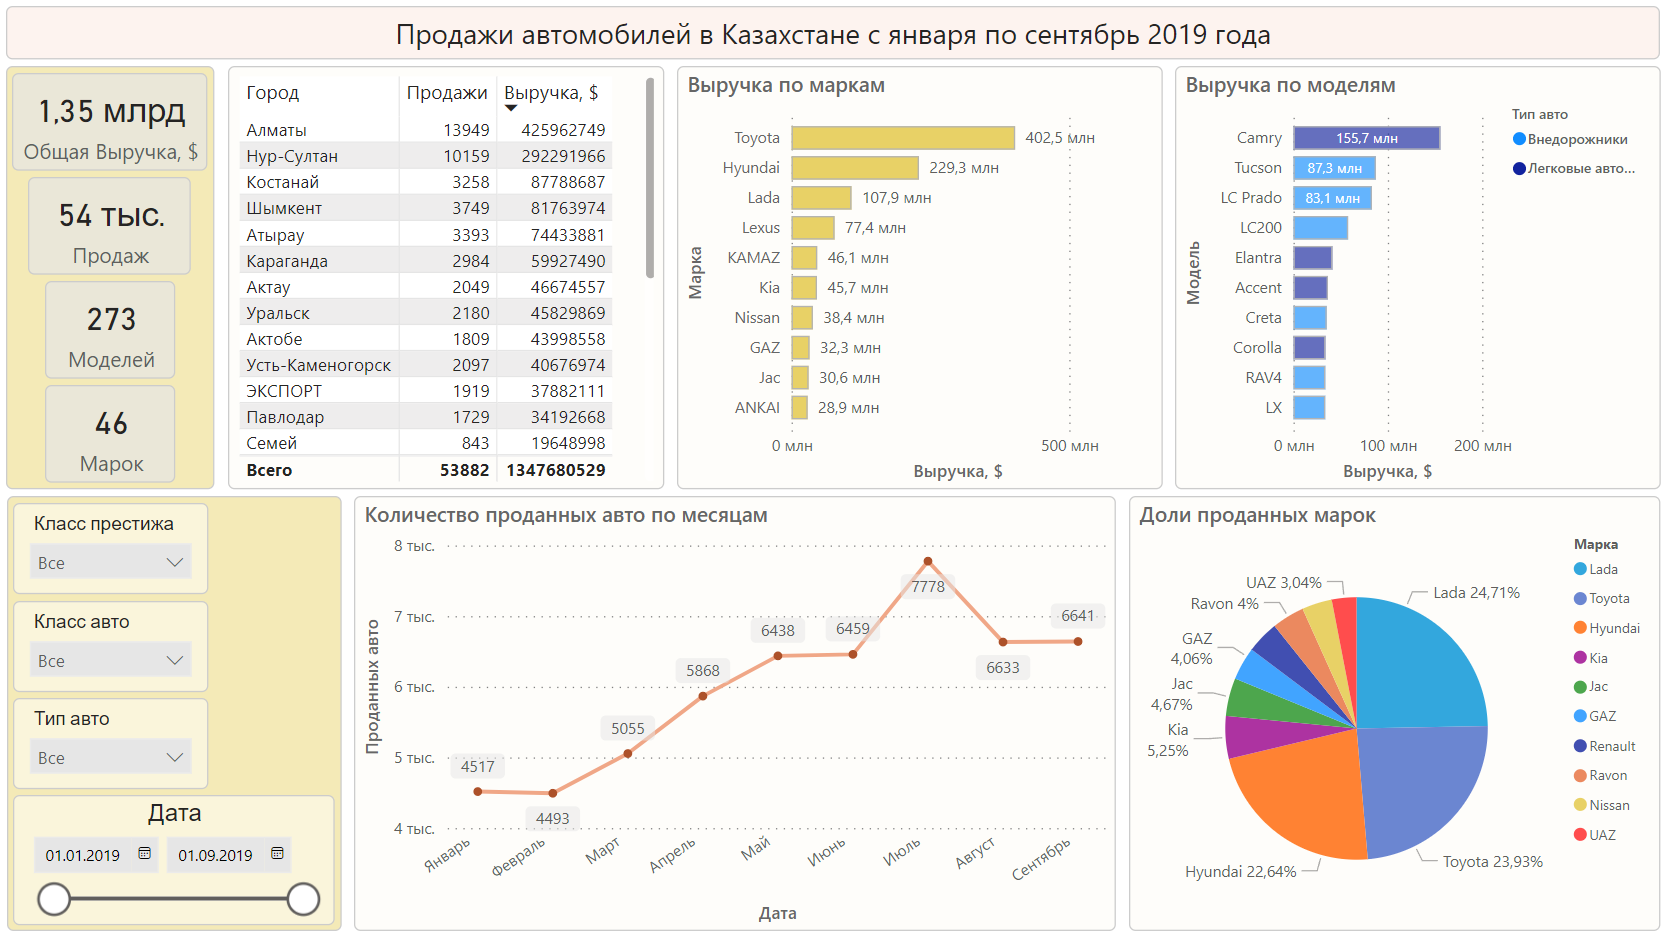

Layout of this report page (visuals, bound fields, positions):
{"tool":"powerbi","page":{"name":"Дашборд","canvas":[1280,720],"ordinal":0},"visuals":[{"type":"textbox","box":[5,380.8,257,334],"z":0},{"type":"textbox","box":[4.8,50.9,160,325],"z":1000},{"type":"tableEx","fields":{"Values":["bi_dry_auto_kz.city","Sum(bi_dry_auto_kz.quantity)","Sum(bi_dry_auto_kz.sale_usd)"]},"box":[174.7,51,335.4,324.8],"z":2000},{"type":"lineChart","title":"Количество проданных авто по месяцам","fields":{"Y":["Sum(bi_dry_auto_kz.quantity)"],"Category":["bi_dry_auto_kz.purchase_date.Изменение.Иерархия дат.Месяц","bi_dry_auto_kz.purchase_date.Изменение.Иерархия дат.День"]},"box":[272,380.8,585,334],"z":3000},{"type":"barChart","title":"Выручка по моделям","fields":{"Category":["bi_dry_auto_kz.model"],"Y":["Sum(bi_dry_auto_kz.sale_usd)"],"Series":["bi_dry_auto_kz.car_type"]},"box":[902.1,51,372.9,324.8],"z":4000},{"type":"card","fields":{"Values":["Sum(bi_dry_auto_kz.quantity)"]},"box":[21.6,135.9,125,75],"z":5000},{"type":"card","fields":{"Values":["Sum(bi_dry_auto_kz.sale_usd)"]},"box":[9.6,55.9,150,75],"z":6000},{"type":"slicer","fields":{"Values":["bi_dry_auto_kz.car_type"]},"box":[9.6,536.2,150,70],"z":7000},{"type":"pieChart","title":"Доли проданных марок","fields":{"Category":["bi_dry_auto_kz.brand"],"Y":["Sum(bi_dry_auto_kz.quantity)"]},"box":[866.8,380.5,408.4,334],"z":8000},{"type":"slicer","fields":{"Values":["bi_dry_auto_kz.price_class"]},"box":[9.6,386.2,150,70],"z":9000},{"type":"slicer","title":"Дата","fields":{"Values":["bi_dry_auto_kz.purchase_date"]},"box":[9.6,610.2,247,100],"z":10000},{"type":"slicer","fields":{"Values":["bi_dry_auto_kz.car_classification"]},"box":[9.6,461.2,150,70],"z":11000},{"type":"card","fields":{"Values":["Count(bi_dry_auto_kz.model)"]},"box":[34.6,215.9,100,75],"z":12000},{"type":"barChart","title":"Выручка по маркам","fields":{"Category":["bi_dry_auto_kz.brand"],"Y":["Sum(bi_dry_auto_kz.sale_usd)"]},"box":[519.7,51,372.9,324.8],"z":13000},{"type":"textbox","box":[4.8,4.8,1270.4,41.3],"z":14000},{"type":"card","fields":{"Values":["Count(bi_dry_auto_kz.brand)"]},"box":[34.6,295.9,100,75],"z":15000}]}

Visuals, with their boxes in screenshot pixels (x1, y1, x2, y2), scaled from the page's 1280x720 canvas onto the 1667x950 screenshot:
textbox: box=[7, 502, 341, 943]
textbox: box=[6, 67, 215, 496]
tableEx - bi_dry_auto_kz.city x Sum(bi_dry_auto_kz.quantity): box=[228, 67, 664, 496]
"Количество проданных авто по месяцам" lineChart: box=[354, 502, 1116, 943]
"Выручка по моделям" barChart: box=[1175, 67, 1660, 496]
card - Sum(bi_dry_auto_kz.quantity): box=[28, 179, 191, 278]
card - Sum(bi_dry_auto_kz.sale_usd): box=[13, 74, 208, 173]
slicer - bi_dry_auto_kz.car_type: box=[13, 707, 208, 800]
"Доли проданных марок" pieChart: box=[1129, 502, 1661, 943]
slicer - bi_dry_auto_kz.price_class: box=[13, 510, 208, 602]
"Дата" slicer: box=[13, 805, 334, 937]
slicer - bi_dry_auto_kz.car_classification: box=[13, 609, 208, 701]
card - Count(bi_dry_auto_kz.model): box=[45, 285, 175, 384]
"Выручка по маркам" barChart: box=[677, 67, 1162, 496]
textbox: box=[6, 6, 1661, 61]
card - Count(bi_dry_auto_kz.brand): box=[45, 390, 175, 489]
